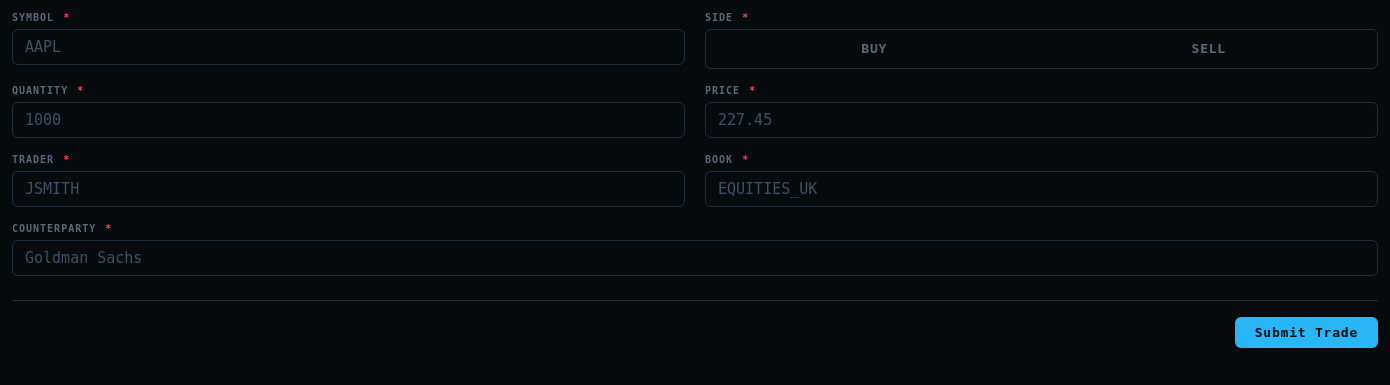
Test: TradeForm — create mode validation › validates a field on blur before any submit
Type "aapl" into the field labelled "Symbol *" at (348, 47), box [12, 29, 685, 65]
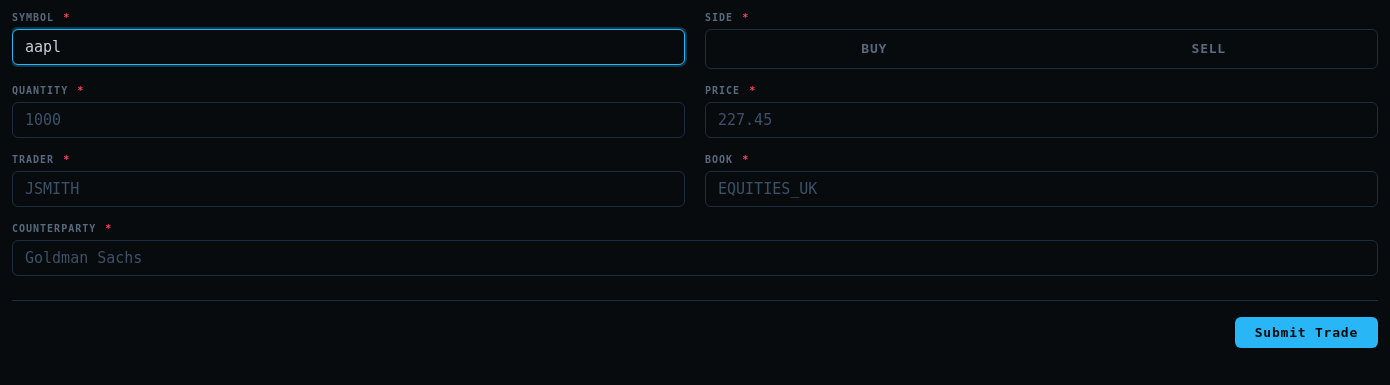
Press Tab
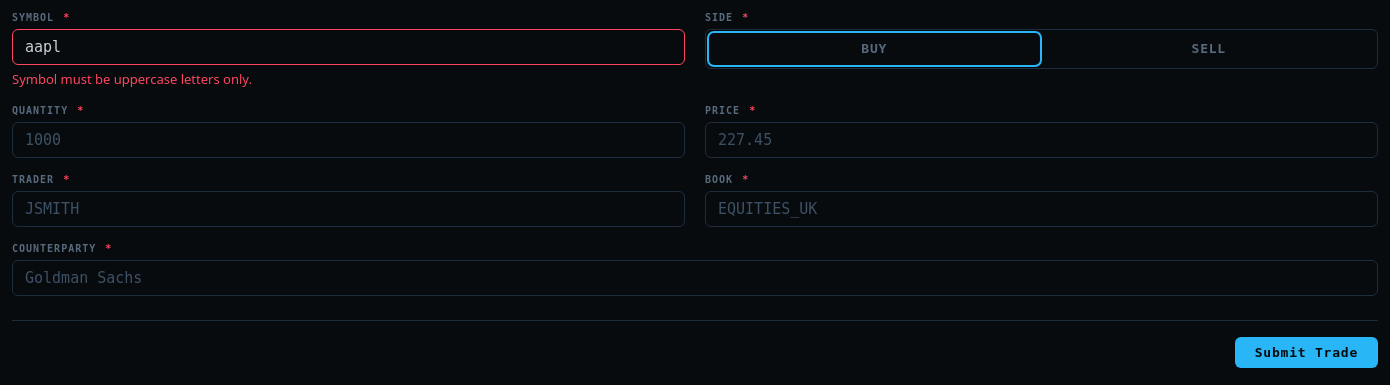
Result: the text "Symbol must be uppercase letters only." is shown at [12, 70, 252, 88]
